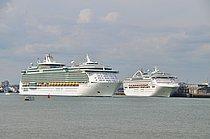Ship: (15, 50, 122, 99), (121, 70, 184, 101)
